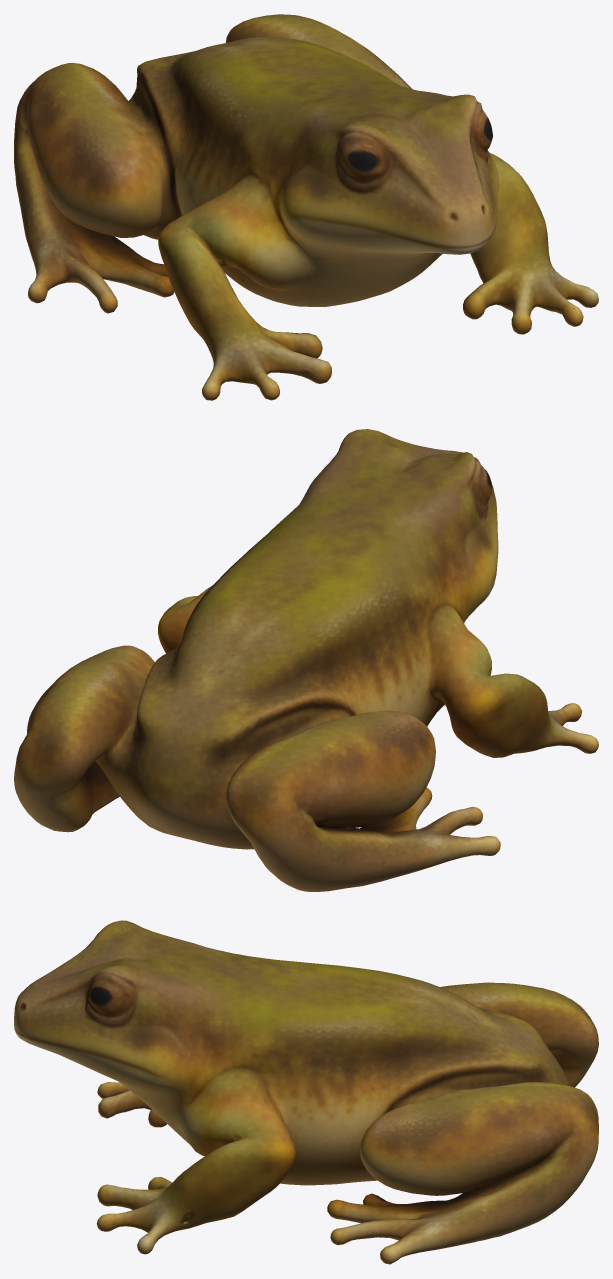
3 views of the same model, one above another, from view 1: azimuth 30°, elevation 25°; view 2: azimuth 150°, elevation 25°; view 3: azimuth 270°, elevation 25° (orthographic). The views are drawn at different scales.
Visible parts, largest first — view 1: world; view 2: world; view 3: world.
Boxes of the visible parts, x1,y1,x2,y2 form: world: (14, 14, 598, 400); world: (14, 429, 598, 891); world: (14, 920, 598, 1264).
Size of the model in its own units: 0.0498 by 0.0262 by 0.06.
Materials: 1 (1 with a texture image).
